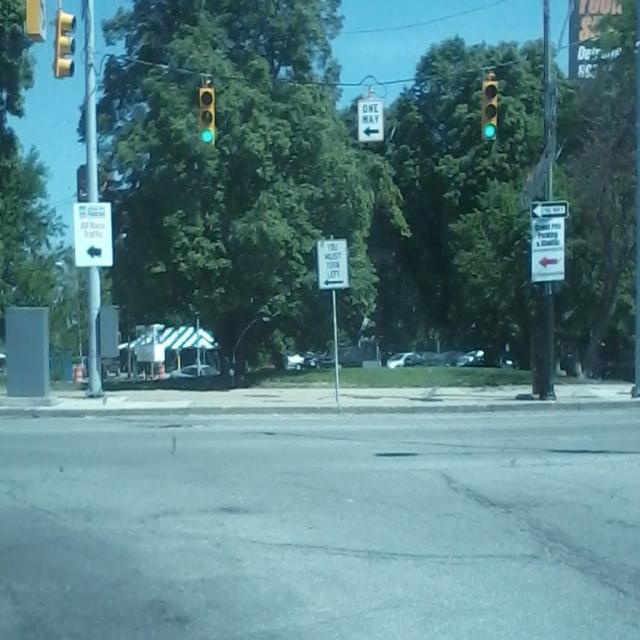off traffic light: (54, 9, 74, 79)
traffic light: (480, 79, 500, 140), (196, 88, 213, 146)
